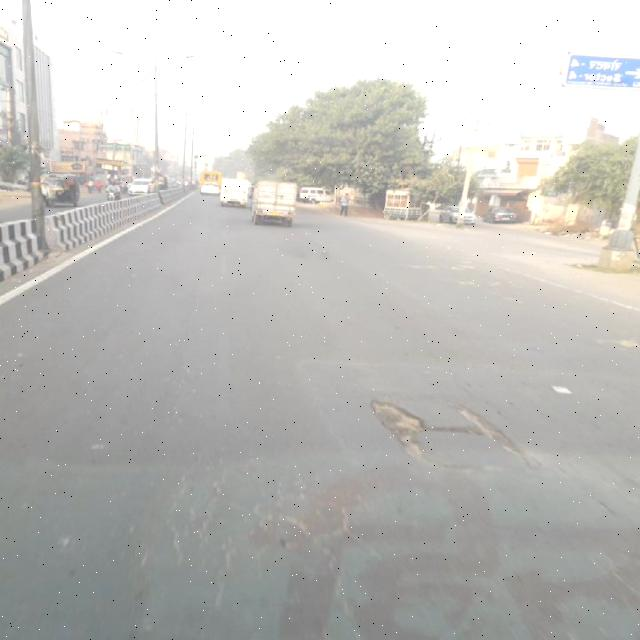D20: (149, 440, 392, 630)
D40: (363, 386, 545, 473)
